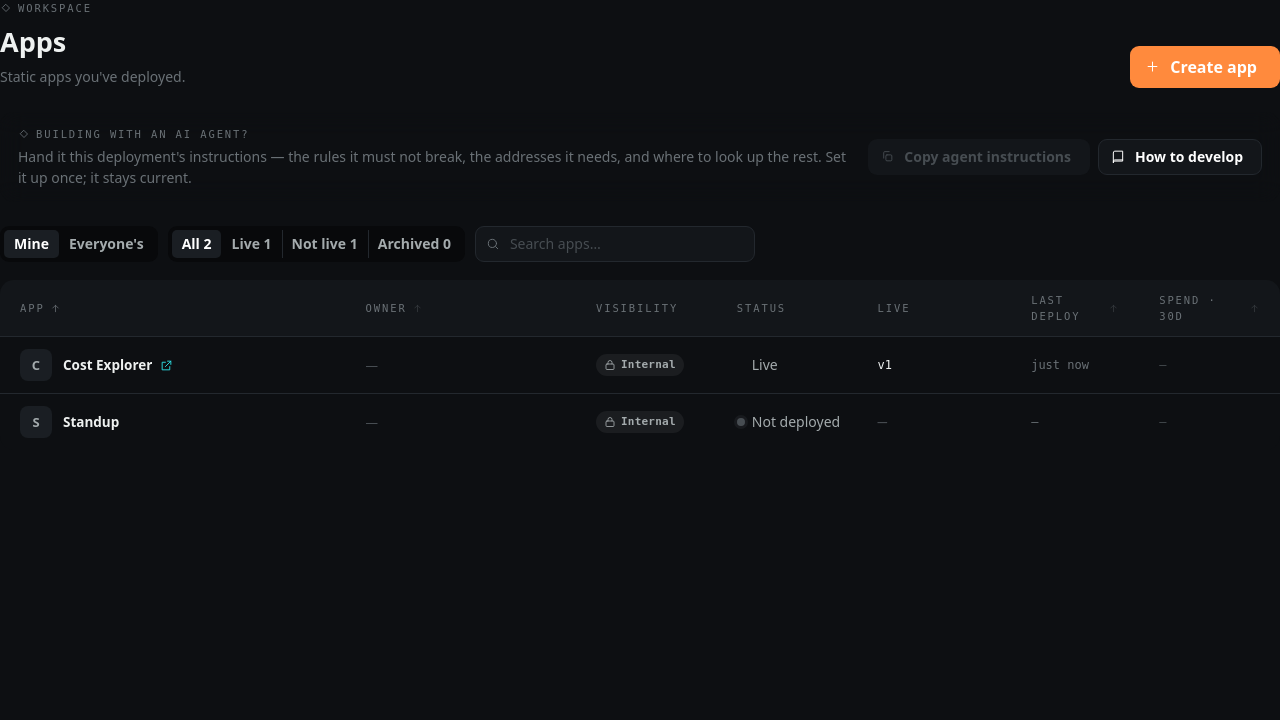
it: AppsListPage › keeps app creation reachable when apps already exist
Click the button "Create app": (1205, 67) [1130, 46, 1279, 88]
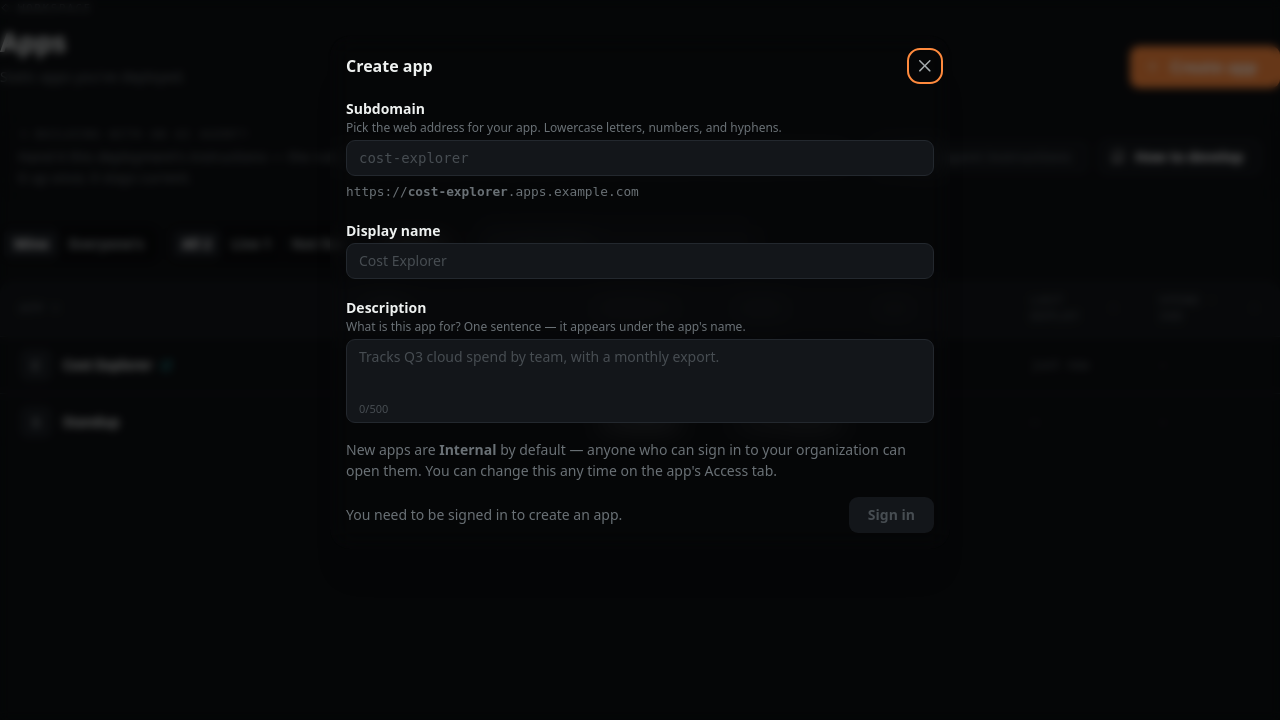
Result: the field labelled "Subdomain" is shown at [346, 140, 934, 176]
